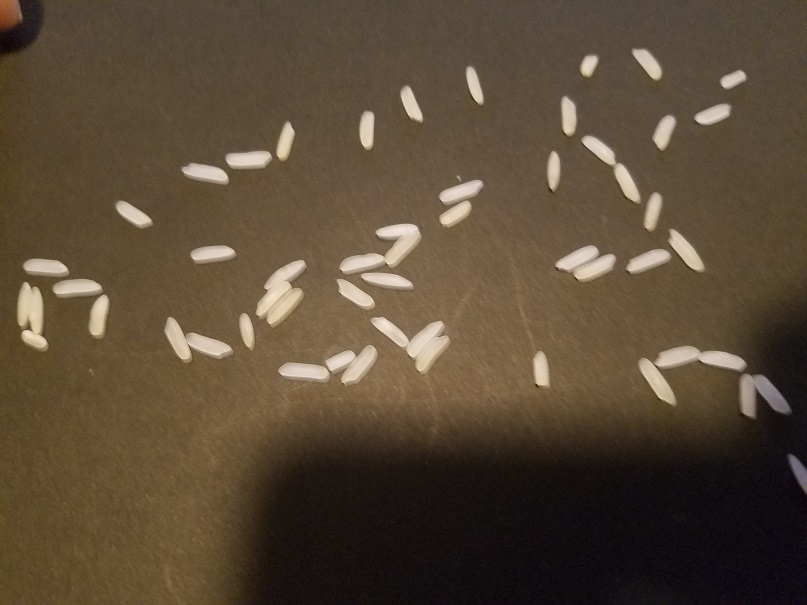egg: (635, 354, 681, 411), (745, 368, 794, 419), (411, 328, 456, 374), (338, 340, 380, 388), (182, 328, 233, 365), (263, 284, 302, 330), (252, 278, 294, 320), (667, 226, 704, 273), (161, 313, 192, 367), (550, 243, 599, 277), (109, 195, 156, 230), (432, 176, 485, 207), (405, 319, 444, 361), (366, 312, 410, 349), (628, 43, 667, 84), (609, 160, 644, 205), (180, 156, 234, 185), (260, 259, 307, 292), (646, 342, 701, 370), (733, 368, 761, 422), (572, 250, 616, 284), (335, 249, 386, 278), (577, 131, 618, 166), (87, 295, 115, 346), (396, 82, 427, 128), (333, 275, 373, 310), (650, 110, 679, 158), (382, 233, 420, 269), (624, 248, 668, 279), (16, 256, 74, 279), (685, 99, 736, 125), (47, 275, 107, 297), (188, 242, 244, 265), (272, 116, 298, 165), (275, 361, 330, 384), (462, 63, 488, 110), (361, 268, 416, 290), (697, 350, 747, 374), (527, 346, 552, 392), (27, 282, 48, 335), (639, 190, 664, 234), (224, 148, 273, 170), (370, 219, 423, 239), (576, 48, 605, 84), (235, 311, 259, 353), (358, 104, 378, 154), (16, 329, 53, 356), (783, 449, 807, 490), (10, 281, 30, 329), (437, 201, 470, 230), (559, 92, 580, 137), (546, 148, 563, 198), (716, 67, 753, 87), (327, 348, 355, 370)
